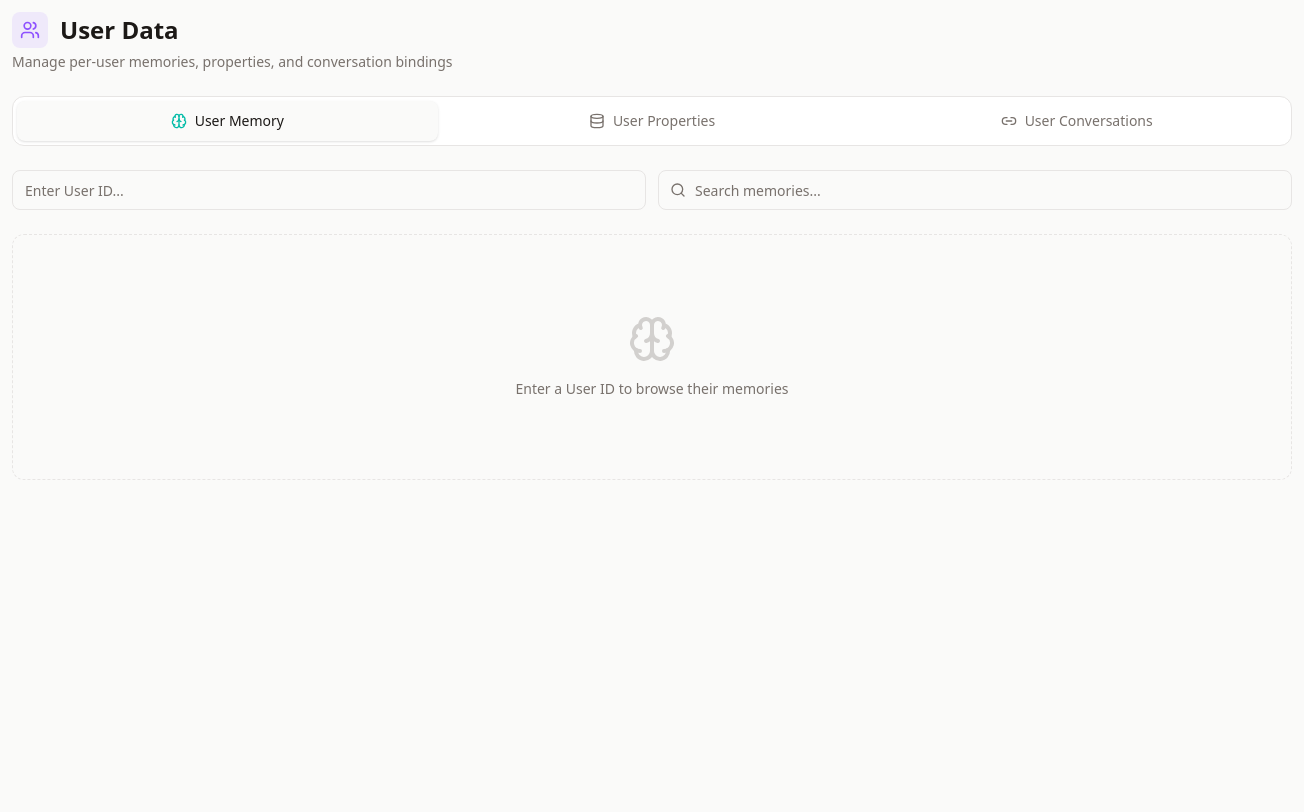
UserDataPage › switches to Conversations tab on click
Click the tab with test id "tab-conversations" at point(1077, 121), box x1=866 y1=101 x2=1287 y2=141
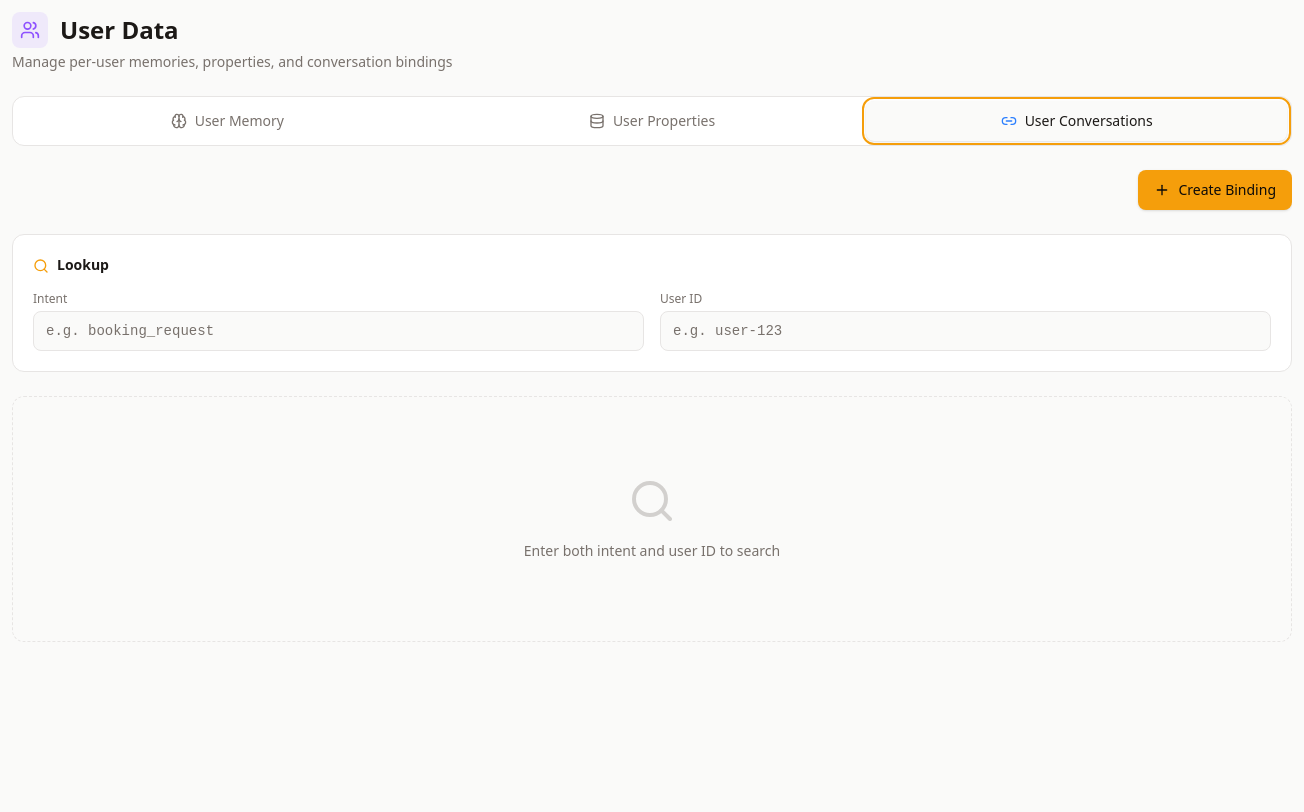
Now the element with test id "user-conversations-page" is shown, box x1=12 y1=170 x2=1292 y2=642
Now the element with test id "user-memory-page" is gone
